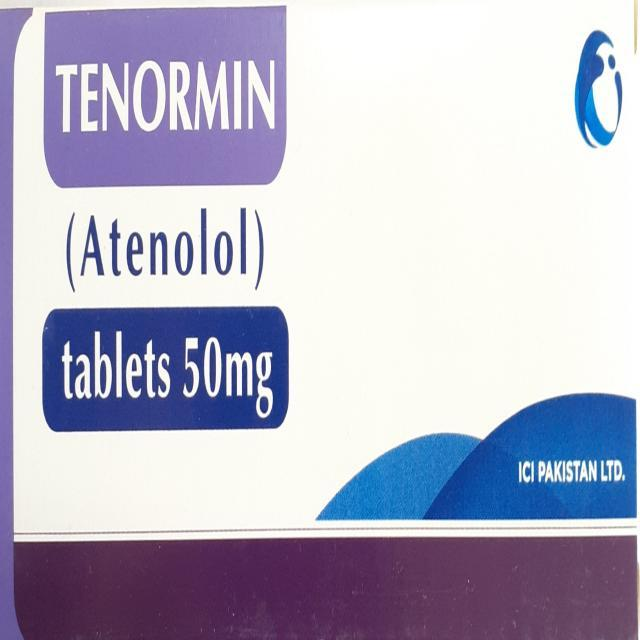drug-name: (52, 58, 277, 138)
